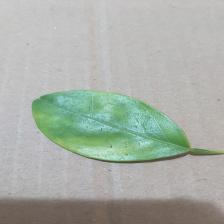greening: (30, 87, 224, 165)
